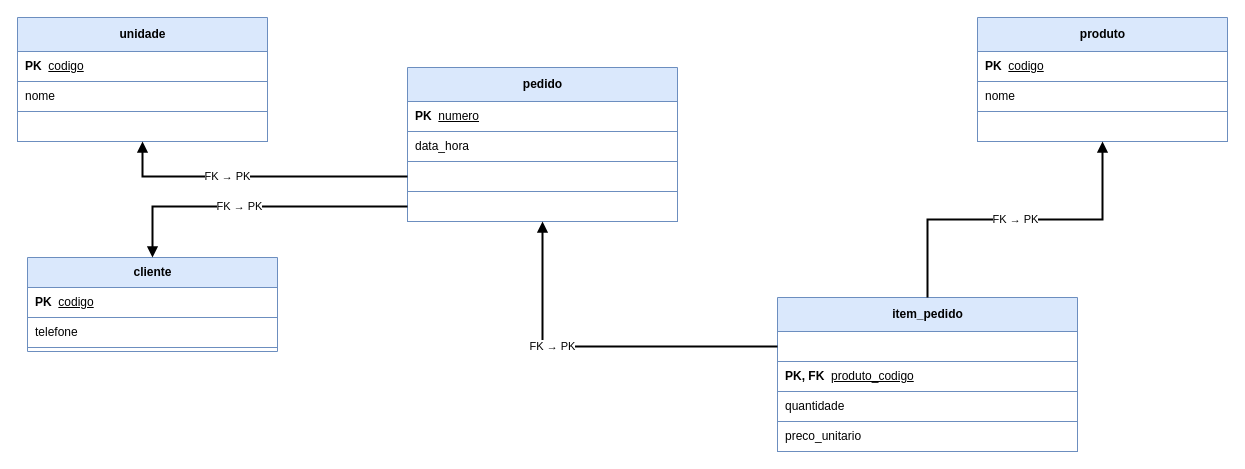
This 1245x469 diagram has some shape labels left out. The shapes that lost their labels are listed below. From the top down, each one's centre as x and y in pixels, then its label:
At (142,126): "endereco".
At (1102,126): "preco_tabela".
At (542,176): "FK unidade_codigo".
At (542,206): "FK cliente_codigo".
At (927,346): "PK, FK pedido_numero".
